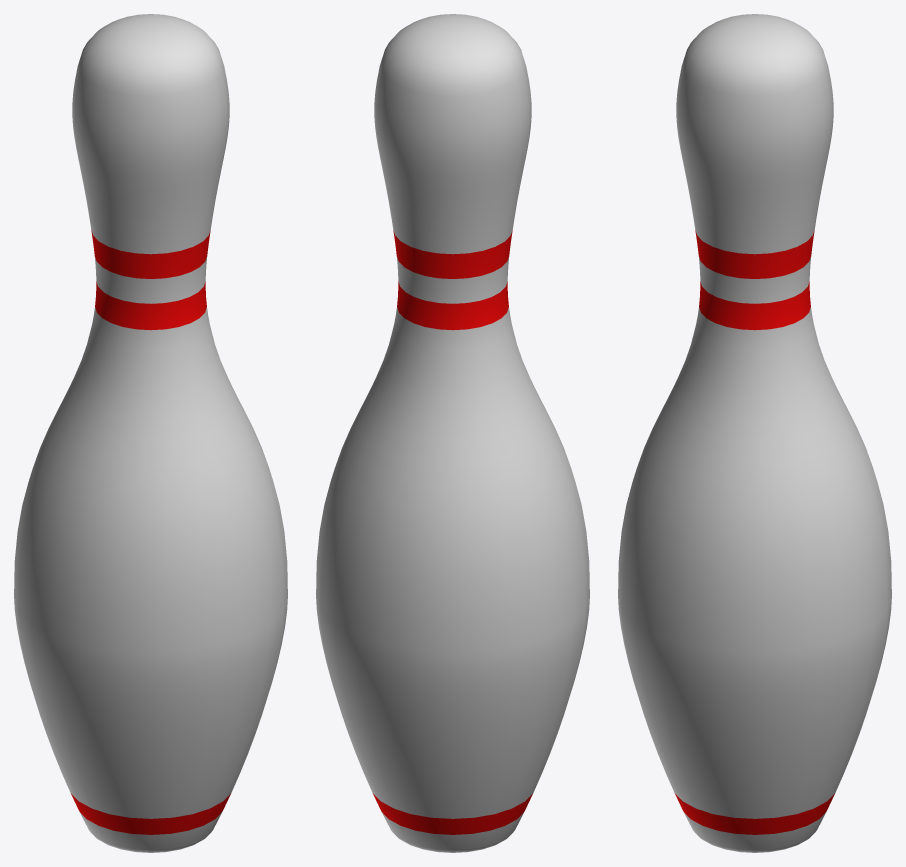
The model's file is Pin.fbx.
The picture shows the model from 3 angles, left to right: view 1: azimuth 30°, elevation 25°; view 2: azimuth 150°, elevation 25°; view 3: azimuth 270°, elevation 25°; orthographic projection.
Parts seen in each view (by area): view 1: Pin Profile; view 2: Pin Profile; view 3: Pin Profile.
Part boxes in pixels (x1,y1,x2,y2): Pin Profile: [14, 14, 287, 852]; Pin Profile: [316, 14, 589, 852]; Pin Profile: [618, 14, 891, 852].
Bounding box in the file's own units: 114 × 373 × 114.
